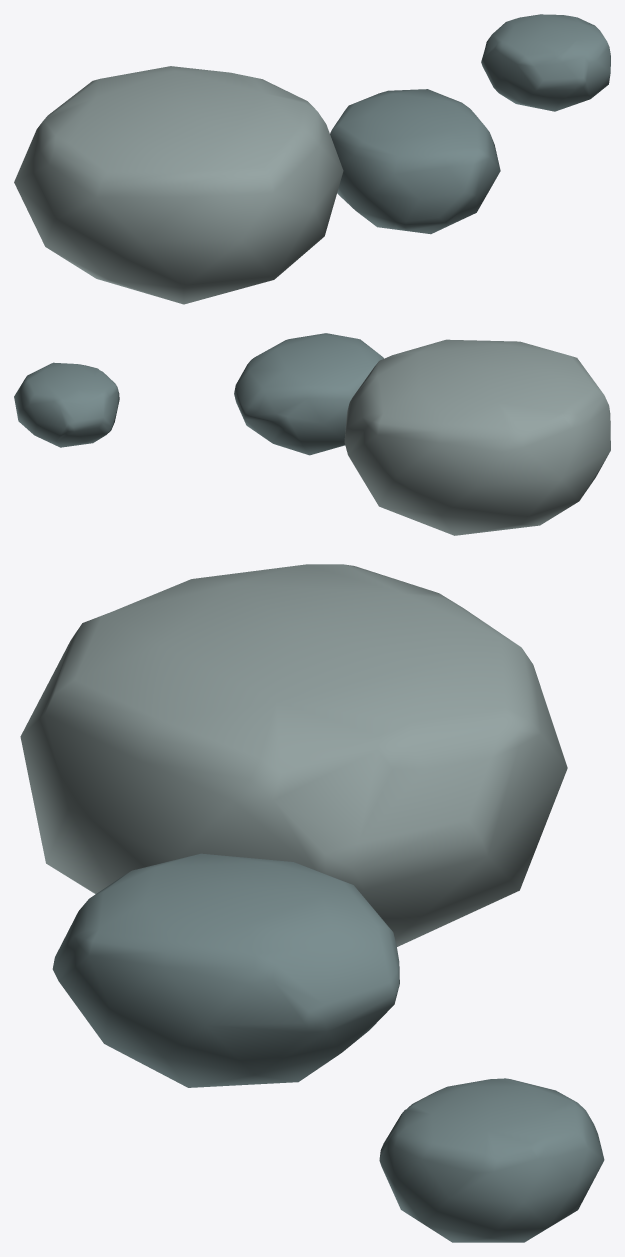
The model's file is prop_uw_rocks_c.glb.
3 views of the same model, one above another, from view 1: azimuth 30°, elevation 25°; view 2: azimuth 150°, elevation 25°; view 3: azimuth 270°, elevation 25° (orthographic). The views are drawn at different scales.
Parts seen in each view (by area): view 1: uwrkc_0, uwrkc_1, uwrkc_2; view 2: uwrkc_0, uwrkc_1, uwrkc_2; view 3: uwrkc_0, uwrkc_1, uwrkc_2.
Boxes of the visible parts, box(x1,y1,x2,y2) form: uwrkc_0: box(14, 66, 343, 304); uwrkc_1: box(330, 89, 500, 234); uwrkc_2: box(481, 14, 610, 111); uwrkc_0: box(344, 339, 610, 535); uwrkc_1: box(234, 333, 383, 455); uwrkc_2: box(14, 362, 119, 447); uwrkc_0: box(20, 564, 567, 946); uwrkc_1: box(52, 853, 399, 1087); uwrkc_2: box(379, 1078, 604, 1242).
Bounding box in the file's own units: 0.6984 × 0.1912 × 0.3343.
